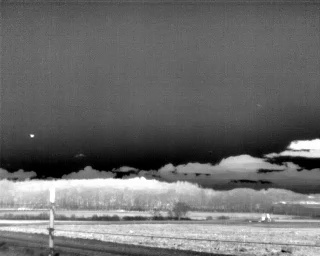DRONE: (27, 130, 37, 141)
